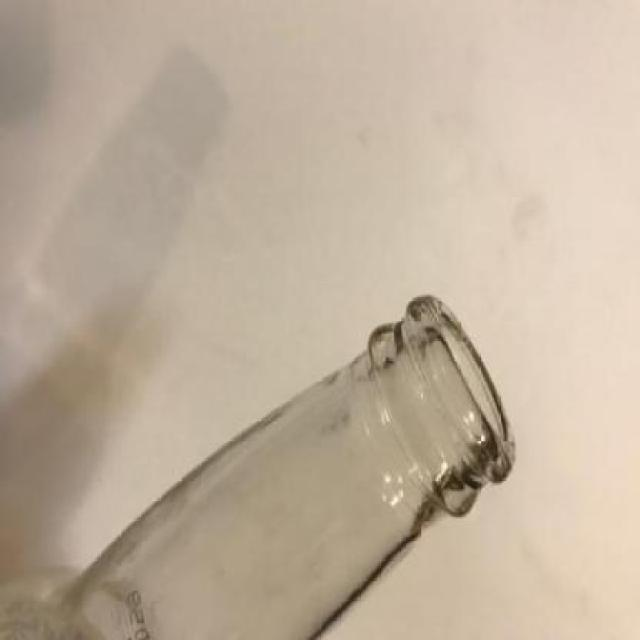GLASS: (2, 294, 516, 638)
